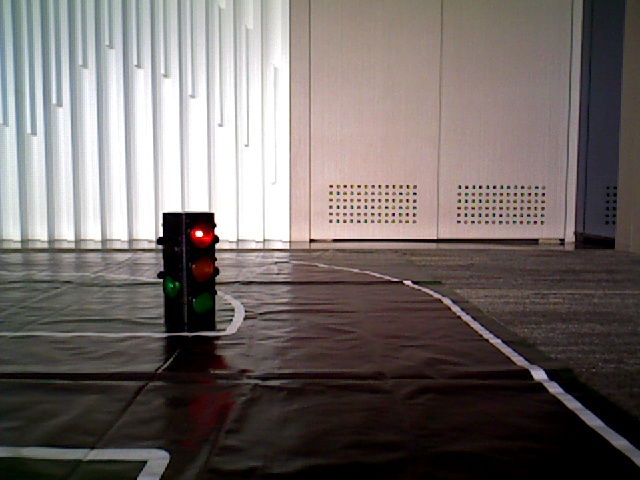red: (179, 208, 213, 310)
